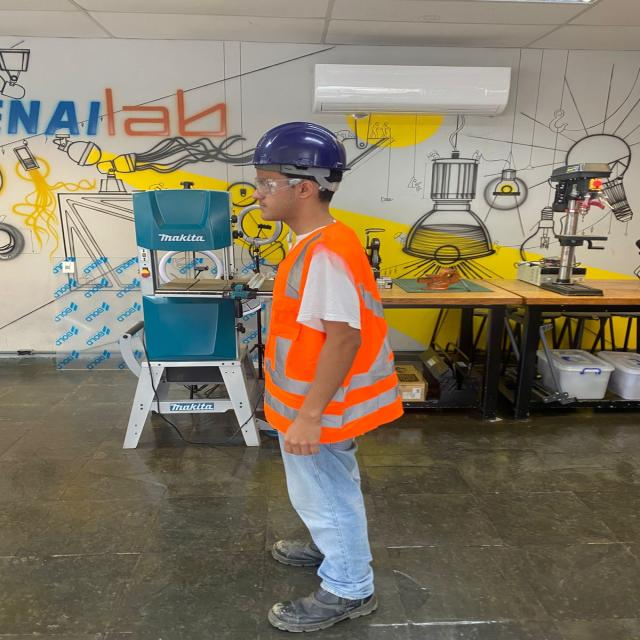BOTA: (271, 573, 387, 633), (275, 536, 375, 568)
CAPACETE: (229, 121, 361, 193)
COLETE: (261, 220, 412, 449)
OCULOS: (254, 176, 328, 199)
SEM LUVA: (278, 410, 325, 455)
